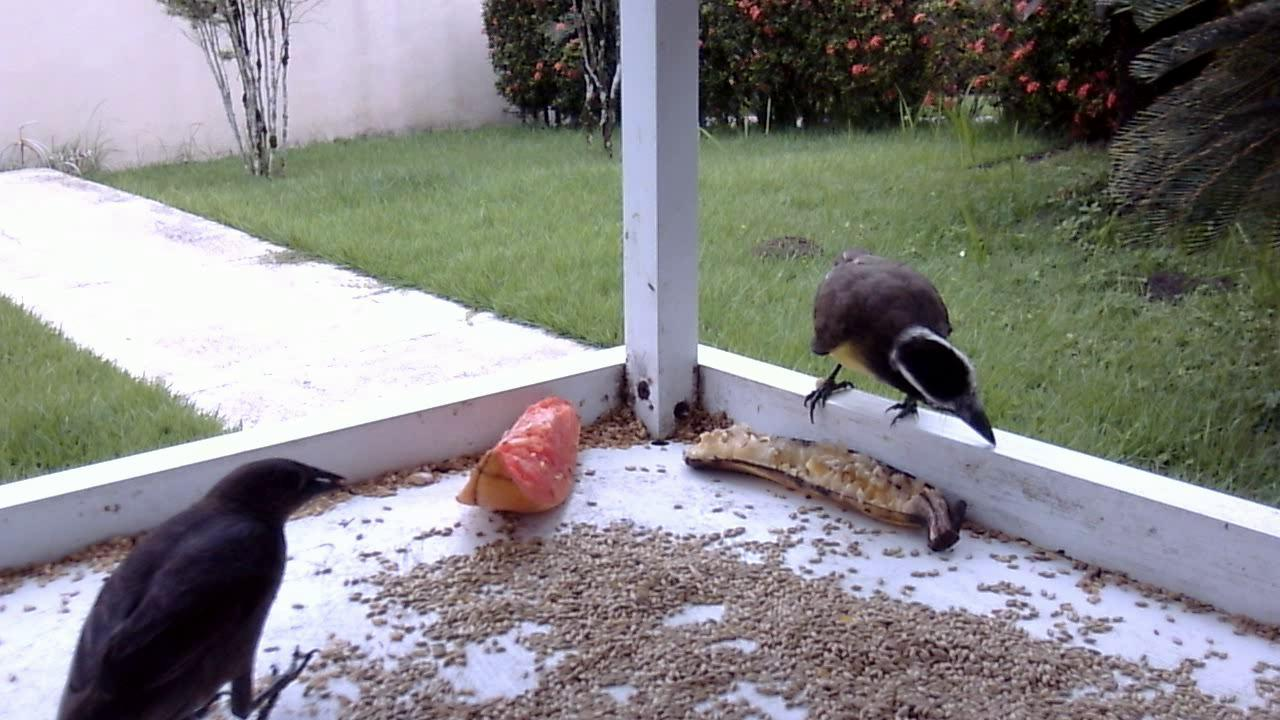bem_te_vi: (794, 240, 1000, 457)
chupim: (44, 451, 362, 720)
